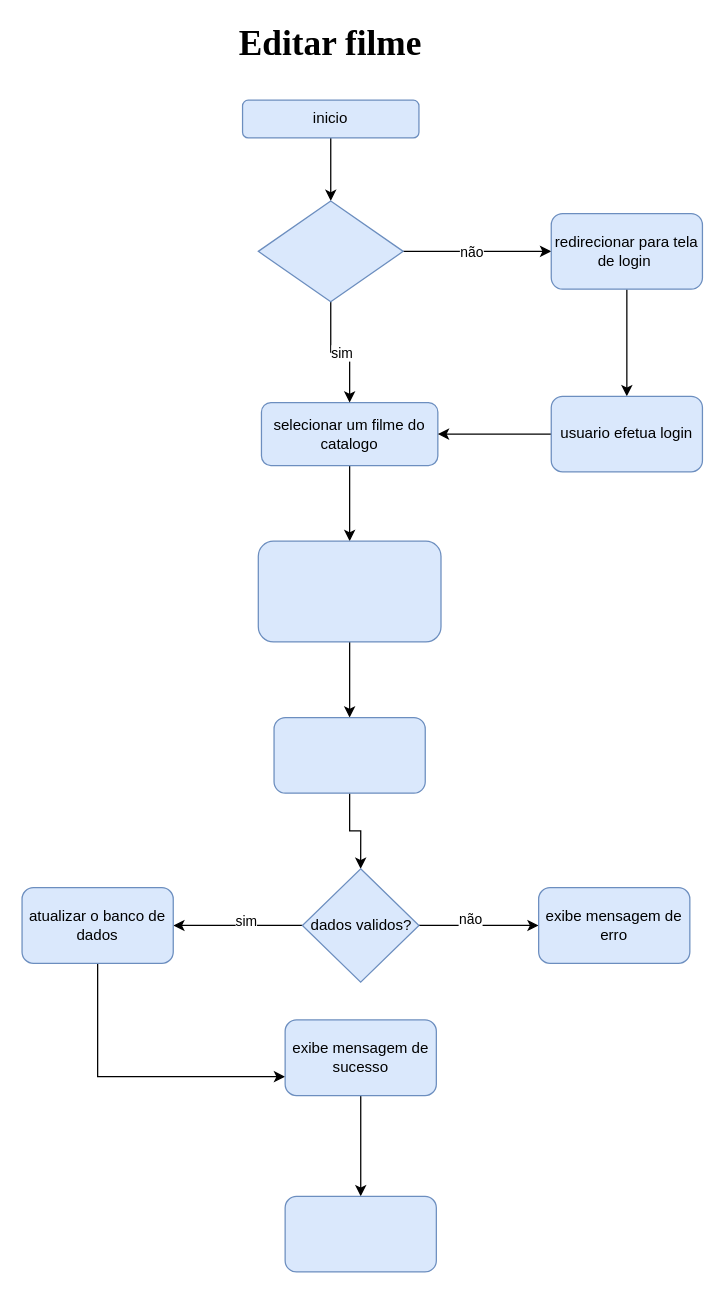
This 725x1294 diagram has some shape labels left out. Here are the shapes that lost their labels. From the top down, the box of each, then its label:
(257, 200, 403, 302): usuario está logado?
(257, 540, 441, 642): usuario clica em editar
(273, 716, 425, 793): alterar as informações desejadas
(284, 1195, 436, 1272): exibir detalhe do filme atualizado
